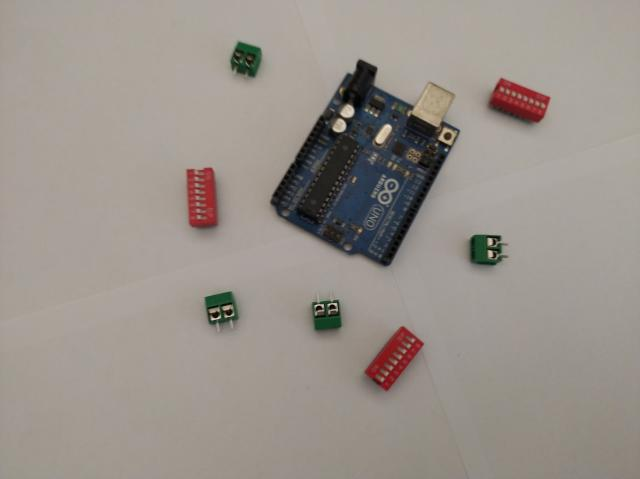arduino: (268, 58, 460, 266)
dip_switch: (364, 326, 424, 394), (489, 78, 551, 125), (186, 168, 218, 228)
terminal_block: (204, 291, 240, 333), (312, 290, 342, 332), (230, 42, 262, 81), (469, 234, 508, 266)
